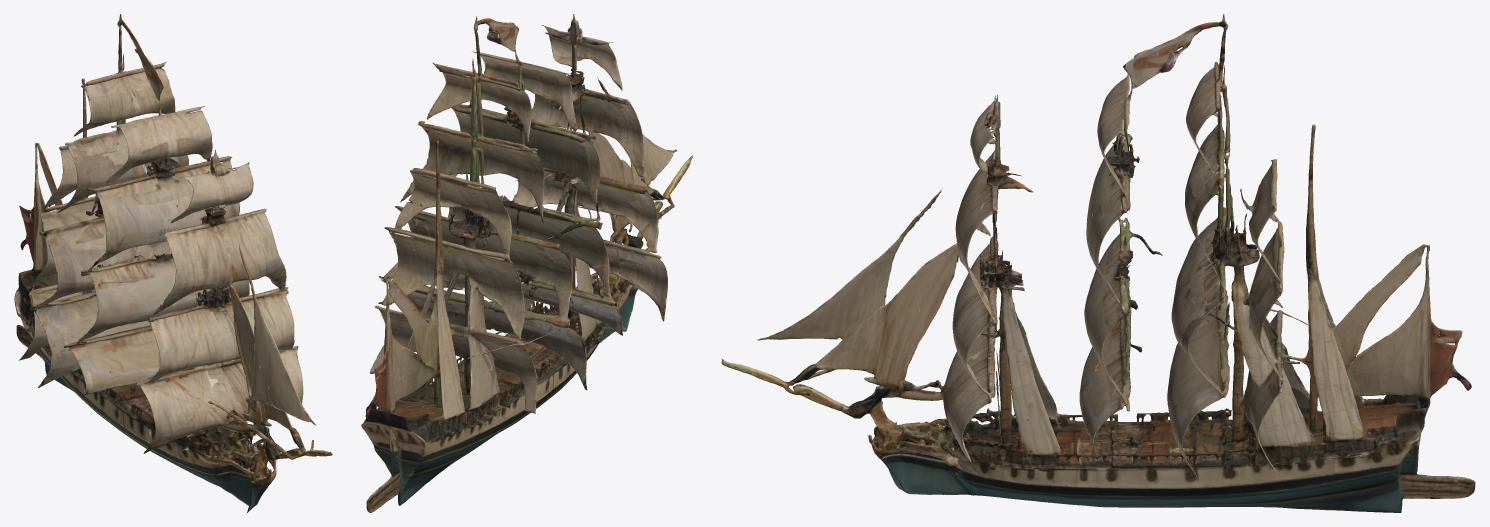
Rendered from majestic_voyager_ship.glb.
3 views of the same model, side by side, from view 1: azimuth 30°, elevation 25°; view 2: azimuth 150°, elevation 25°; view 3: azimuth 270°, elevation 25° (orthographic). The views are drawn at different scales.
Visible parts, largest first — view 1: Mesh_0; view 2: Mesh_0; view 3: Mesh_0.
Part boxes in pixels (x1=…): Mesh_0: x1=14, y1=14, x2=332, y2=512; Mesh_0: x1=361, y1=14, x2=692, y2=512; Mesh_0: x1=721, y1=14, x2=1475, y2=512.
Bounding box in the file's own units: 17.84 × 36.5 × 50.03.
1 material, 1 textured.
